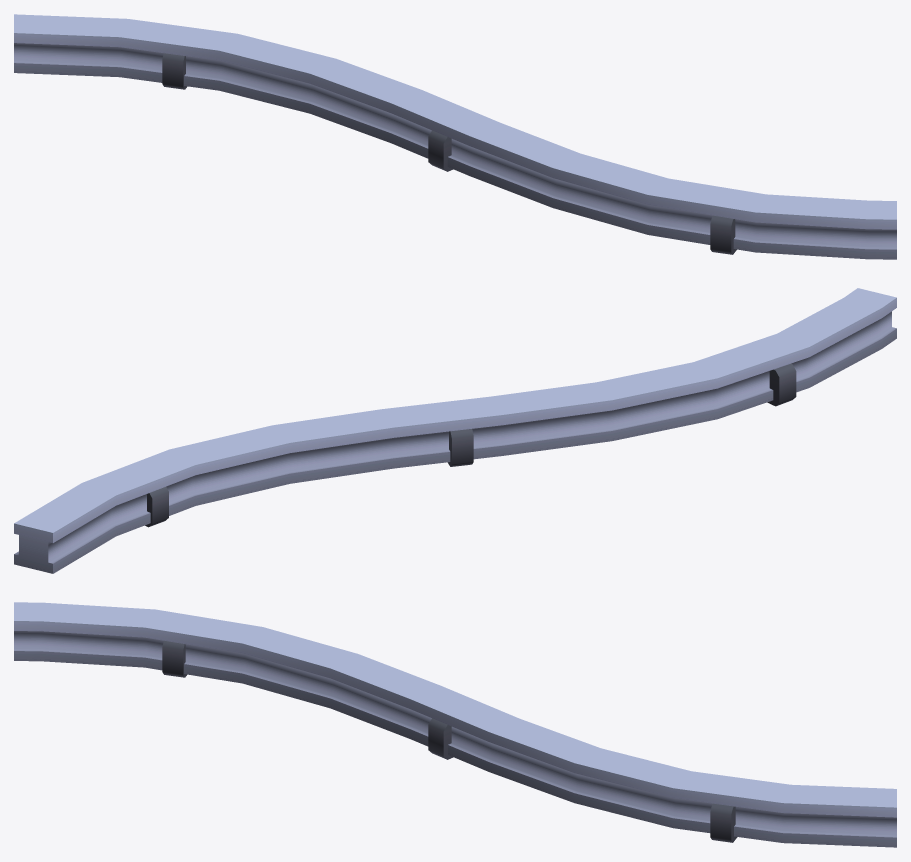
File: coaster-monorail-curve.glb
3 views of the same model, one above another, from view 1: azimuth 90°, elevation 25°; view 2: azimuth 150°, elevation 25°; view 3: azimuth 270°, elevation 25° (orthographic). The views are drawn at different scales.
Parts seen in each view (by area): view 1: coaster-monorail-curve; view 2: coaster-monorail-curve; view 3: coaster-monorail-curve.
Boxes of the visible parts, box(x1,y1,x2,y2) form: coaster-monorail-curve: box(14, 14, 896, 259); coaster-monorail-curve: box(14, 288, 896, 573); coaster-monorail-curve: box(14, 602, 896, 847).
Size of the model in its own units: 2.2 by 0.2251 by 4.
Materials: 1 (1 with a texture image).
